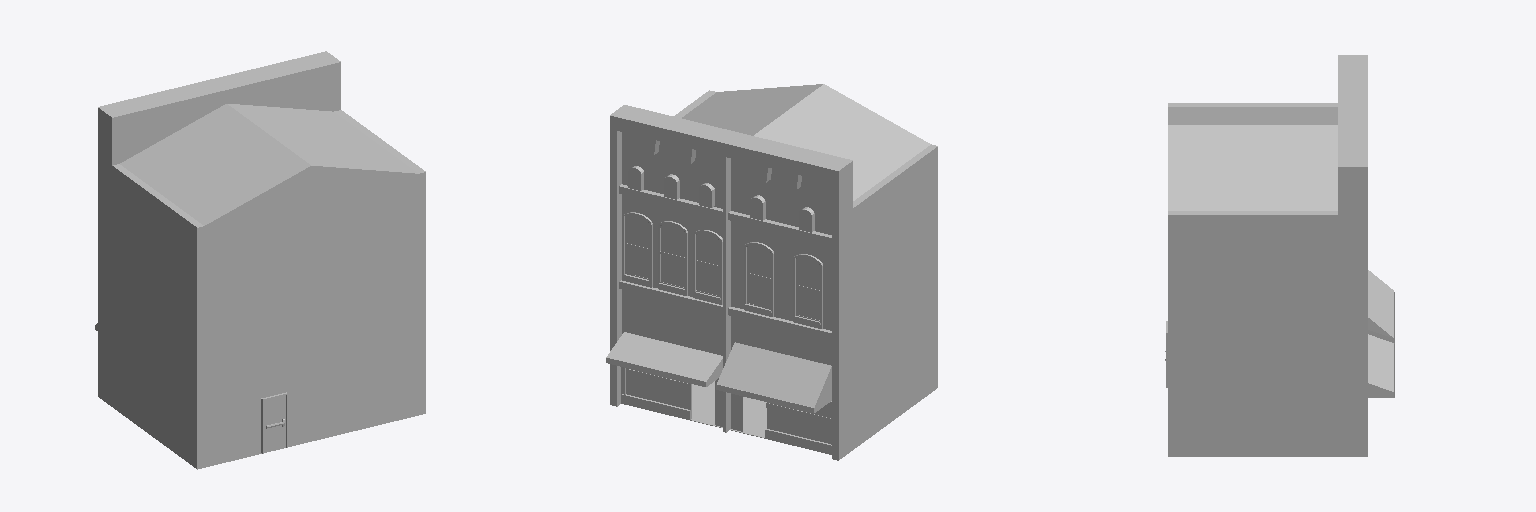
The model's file is Office_Building.obj.
3 renders of one model, left to right at view 1: azimuth 30°, elevation 25°; view 2: azimuth 150°, elevation 25°; view 3: azimuth 270°, elevation 25°, orthographic.
Parts seen in each view (by area): view 1: Office_Building Buildings, Office_Building Buildings pCube12 Fire_Exit6; view 2: Office_Building Buildings, Office_Building Buildings Cover5, Office_Building Buildings Cover4, Office_Building Buildings Glass, Office_Building Buildings Side_Bar1, Office_Building Buildings Pillar, Office_Building Buildings Side_Bar2, Office_Building Buildings Windows3 Window, Office_Building Buildings Windows4 Window, Office_Building Buildings Windows2 Window, Office_Building Buildings Windows1 Window, Office_Building Buildings Windows5 Window (+7 smaller); view 3: Office_Building Buildings, Office_Building Buildings Cover4, Office_Building Buildings Cover5.
Part boxes in pixels (left/top/right/bottom): Office_Building Buildings: left=98, top=51, right=425, bottom=469; Office_Building Buildings pCube12 Fire_Exit6: left=261, top=392, right=287, bottom=453; Office_Building Buildings: left=610, top=84, right=937, bottom=460; Office_Building Buildings Cover5: left=716, top=342, right=831, bottom=413; Office_Building Buildings Cover4: left=606, top=332, right=722, bottom=386; Office_Building Buildings Glass: left=626, top=368, right=830, bottom=443; Office_Building Buildings Side_Bar1: left=619, top=184, right=831, bottom=244; Office_Building Buildings Pillar: left=723, top=157, right=730, bottom=432; Office_Building Buildings Side_Bar2: left=619, top=280, right=831, bottom=339; Office_Building Buildings Windows3 Window: left=696, top=236, right=719, bottom=295; Office_Building Buildings Windows4 Window: left=747, top=248, right=770, bottom=308; Office_Building Buildings Windows2 Window: left=661, top=227, right=684, bottom=287; Office_Building Buildings Windows1 Window: left=625, top=219, right=648, bottom=278; Office_Building Buildings Windows5 Window: left=796, top=260, right=819, bottom=319; Office_Building Buildings: left=1168, top=55, right=1367, bottom=456; Office_Building Buildings Cover4: left=1368, top=334, right=1394, bottom=397; Office_Building Buildings Cover5: left=1368, top=270, right=1394, bottom=343.
Bounding box in the file's own units: 63.6 × 76.85 × 55.19.